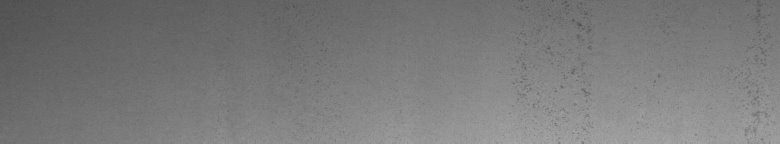ib: (517, 9, 592, 112)
